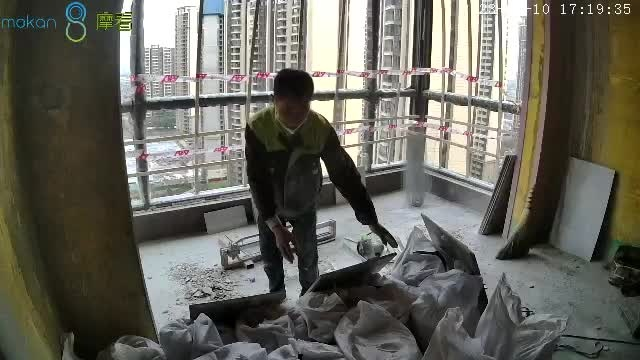people: (245, 70, 397, 298)
window: (119, 2, 526, 190)
